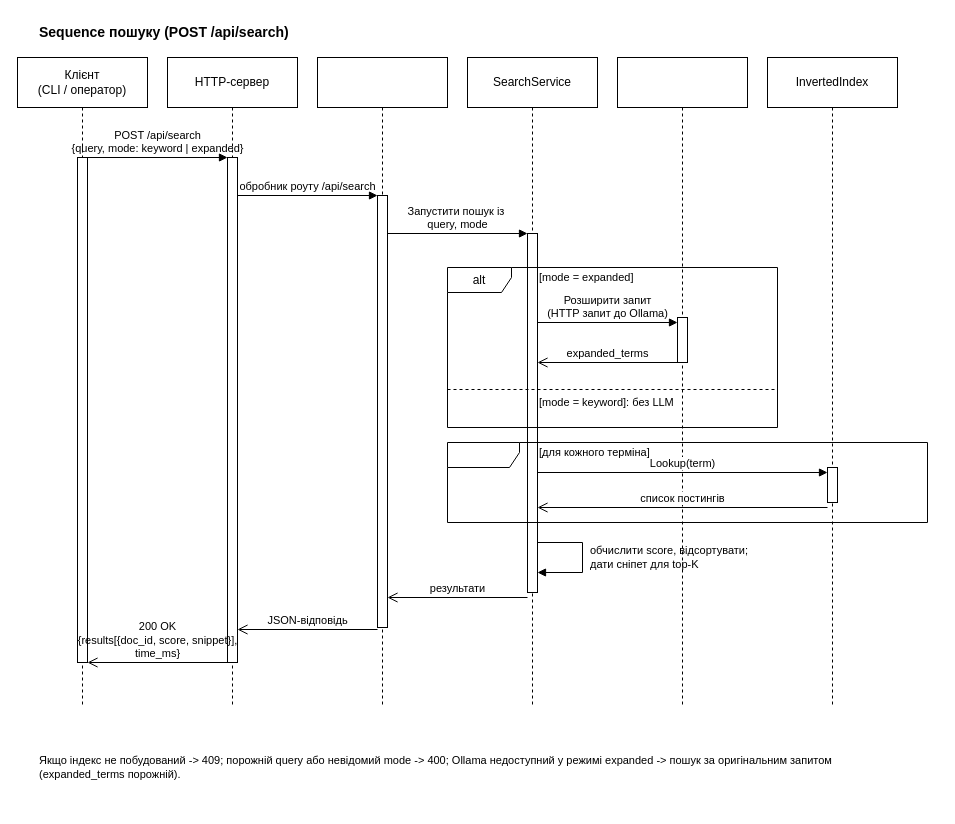
Image size: 955x824. Some labels were removed from this diagram. Here are the shapes that lost their labels. From the top down, the box of each, then its label:
(316, 56, 448, 708): SearchController
(616, 56, 748, 708): OllamaClient
(446, 442, 928, 522): loop
